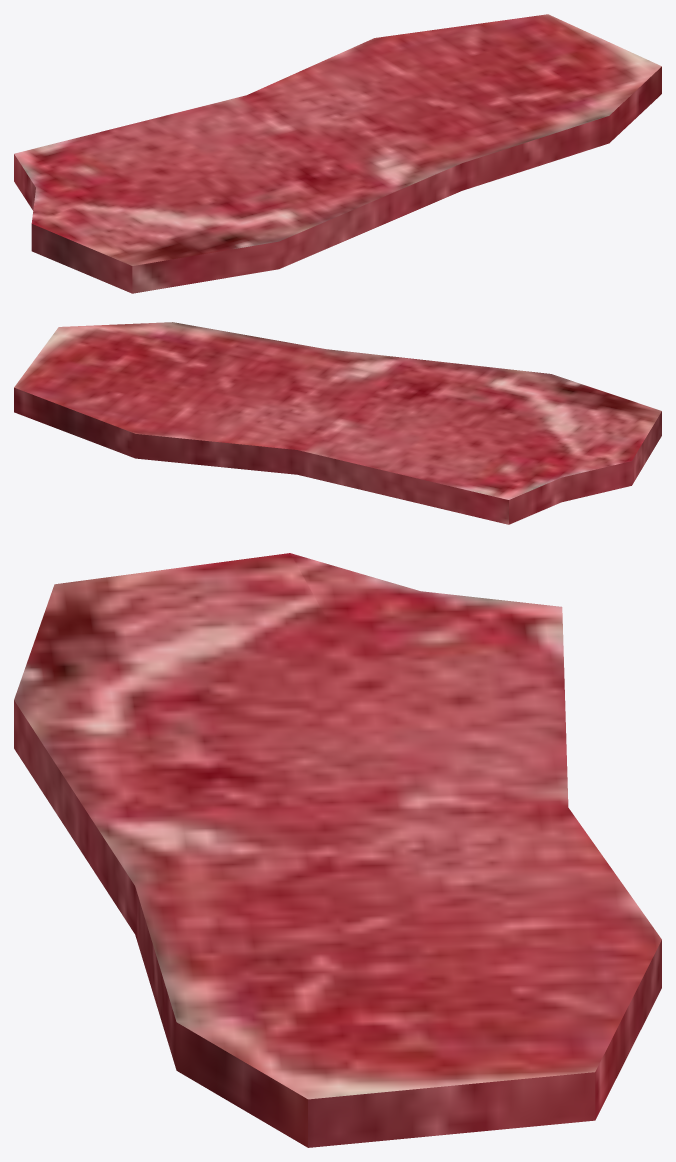
File: Raw_meat_04.glb
The picture shows the model from 3 angles, top to bottom: view 1: azimuth 30°, elevation 25°; view 2: azimuth 150°, elevation 25°; view 3: azimuth 270°, elevation 25°; orthographic projection. The views are drawn at different scales.
Visible parts, largest first — view 1: Raw_meat_04; view 2: Raw_meat_04; view 3: Raw_meat_04.
Part boxes in pixels (x1,y1,x2,y2): Raw_meat_04: [14, 14, 661, 293]; Raw_meat_04: [14, 322, 661, 524]; Raw_meat_04: [14, 553, 661, 1147].
Size of the model in its own units: 0.4497 by 0.0197 by 0.2264.
Materials: 1 (1 with a texture image).
